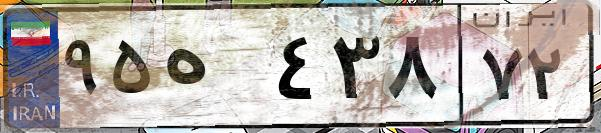2: (525, 38, 570, 115)
3: (330, 28, 385, 110)
4: (270, 28, 330, 110)
5: (110, 28, 158, 98)
7: (475, 38, 525, 113)
8: (385, 28, 445, 110)
9: (57, 26, 110, 100)
ه: (158, 20, 270, 120)
